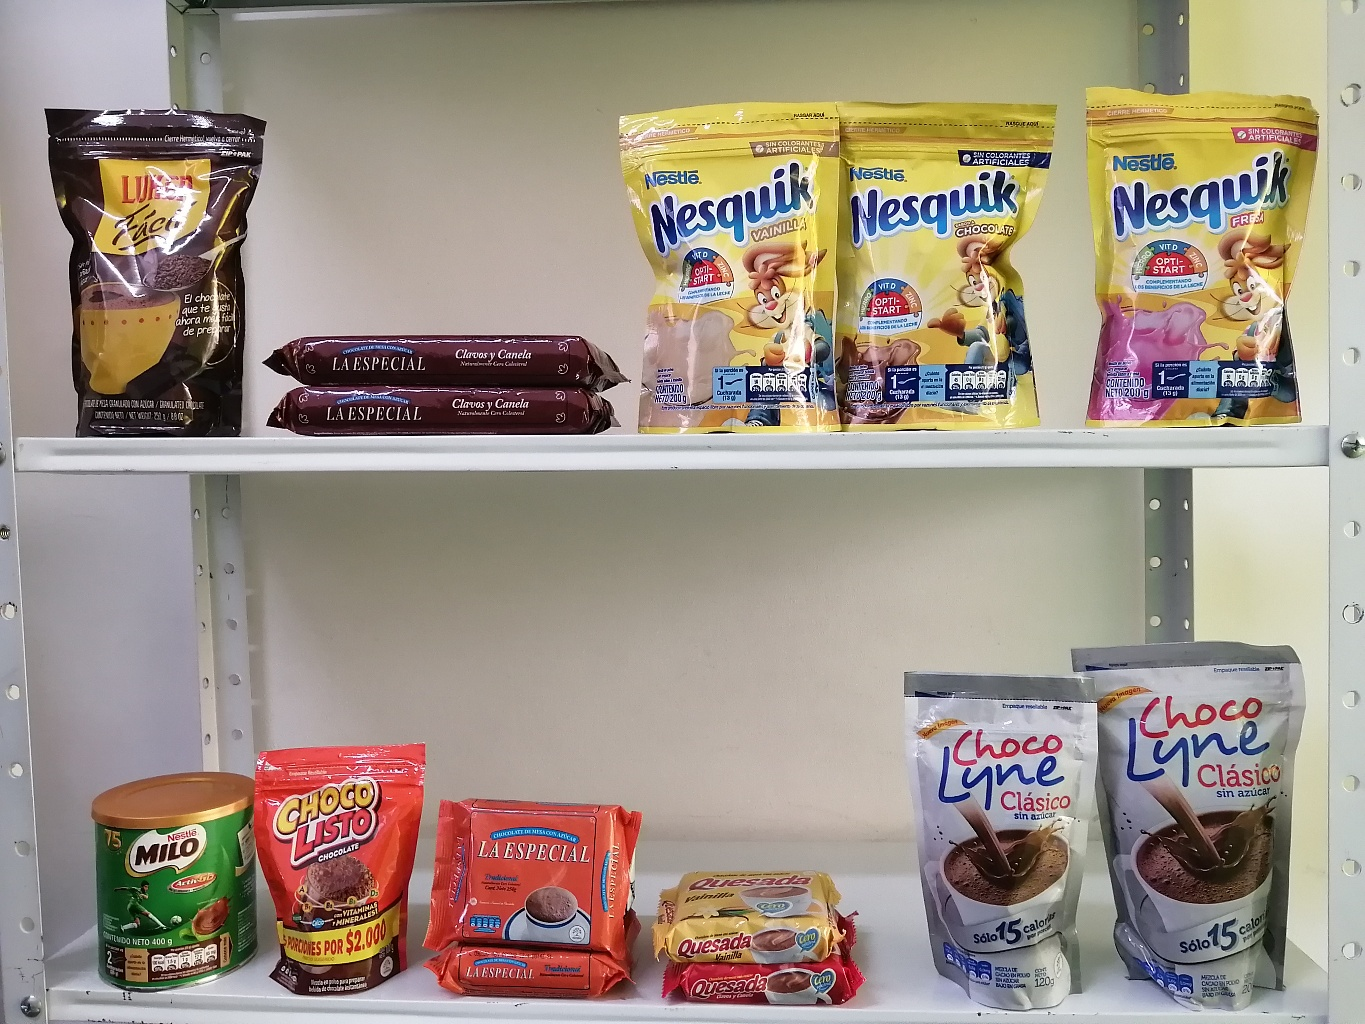COL0170203LAT40000: (88, 768, 266, 979)
COL0170303DYP20000: (831, 103, 1060, 436)
COL0170305DYP20000: (1073, 81, 1318, 431)
COL0170306DYP20000: (616, 83, 830, 431)
